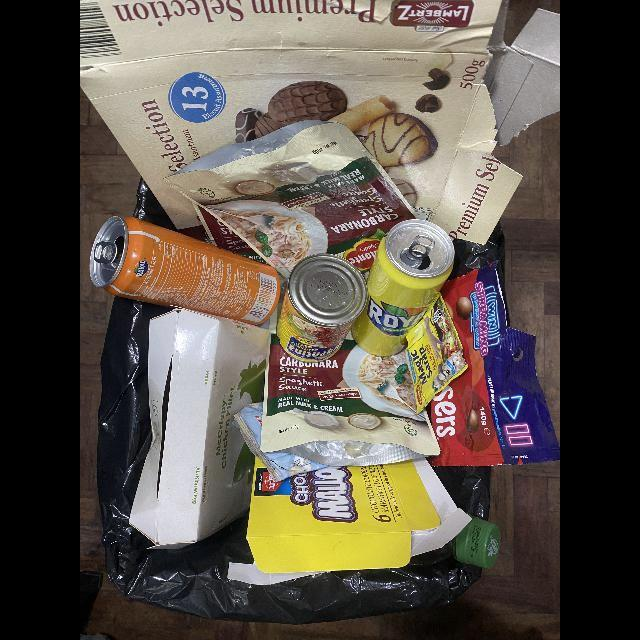aluminum: (89, 216, 281, 326), (351, 219, 455, 357), (277, 254, 368, 363)
cardboard: (80, 0, 560, 246), (129, 310, 271, 549), (227, 458, 472, 586)
food_wrapper: (165, 120, 418, 279), (260, 304, 441, 467), (426, 260, 560, 468), (405, 292, 468, 414), (234, 402, 328, 482)
